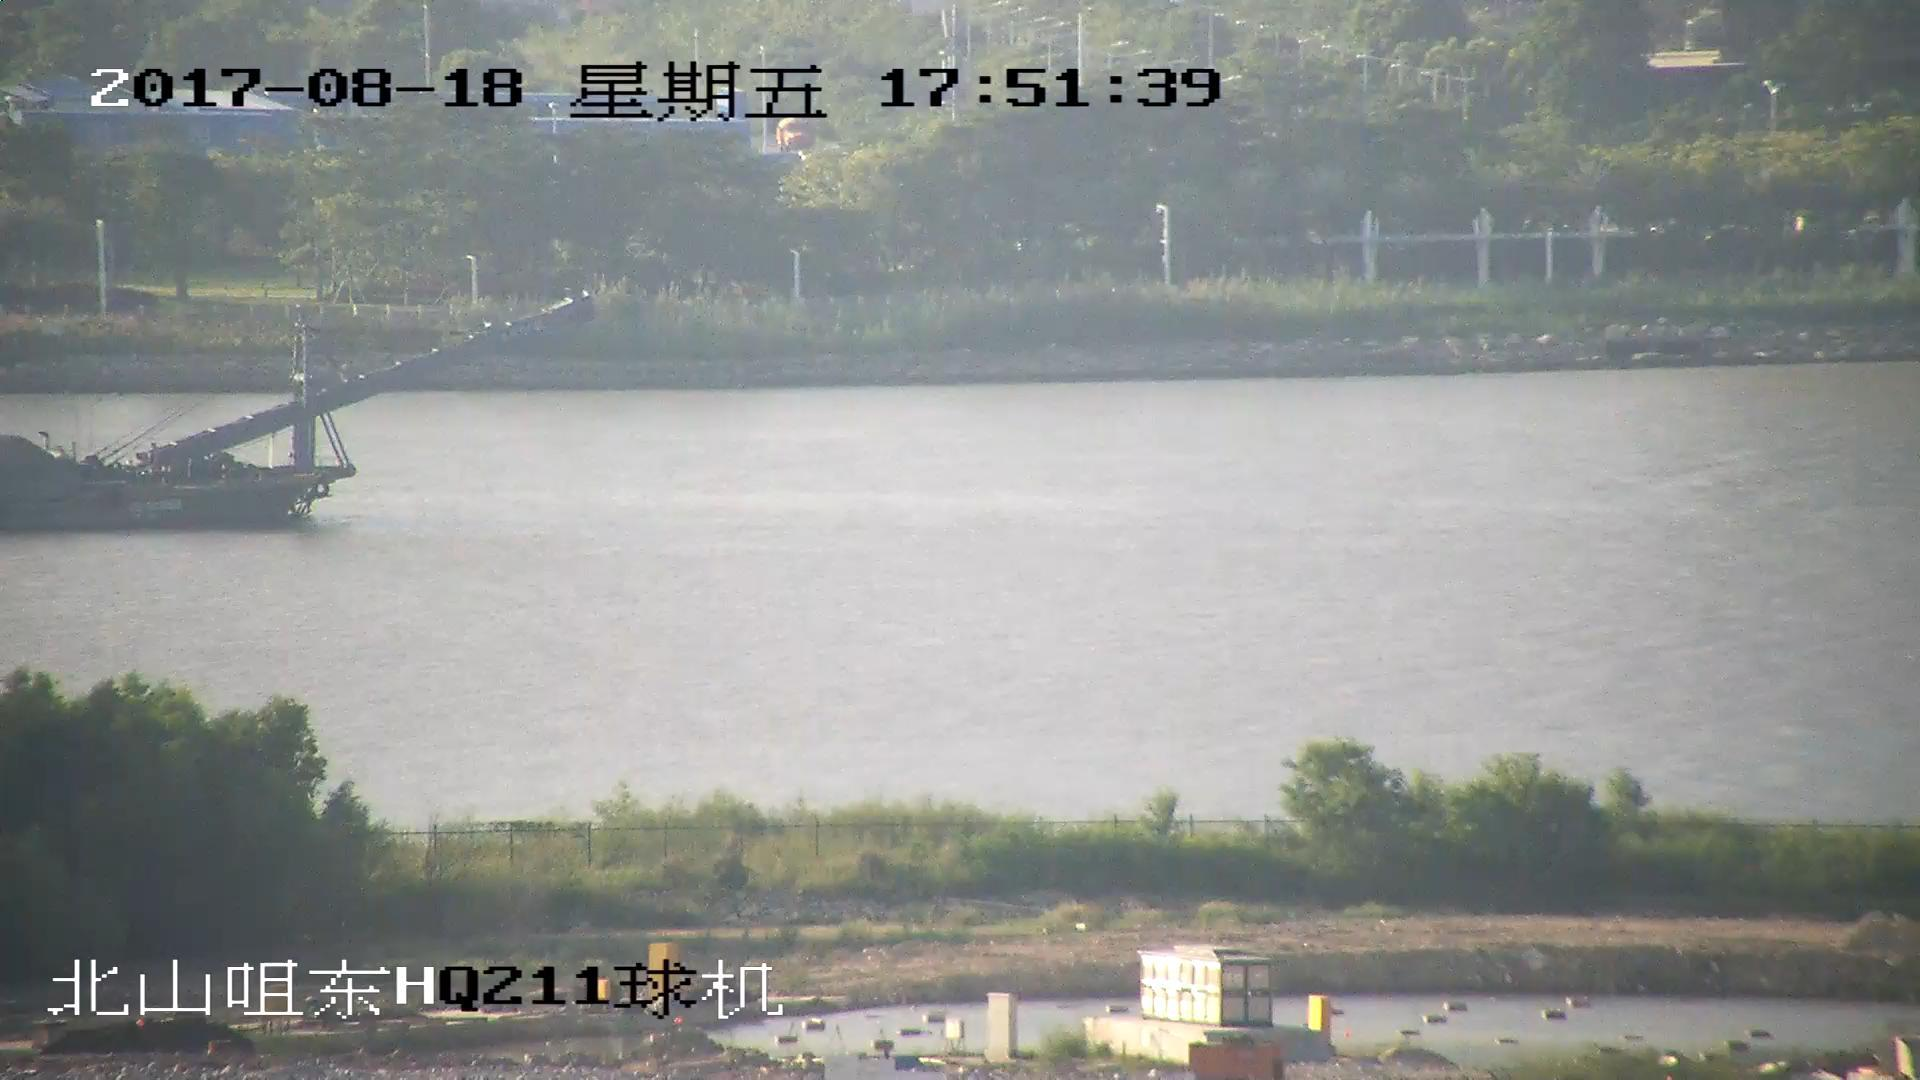Ship: (3, 298, 589, 533)
